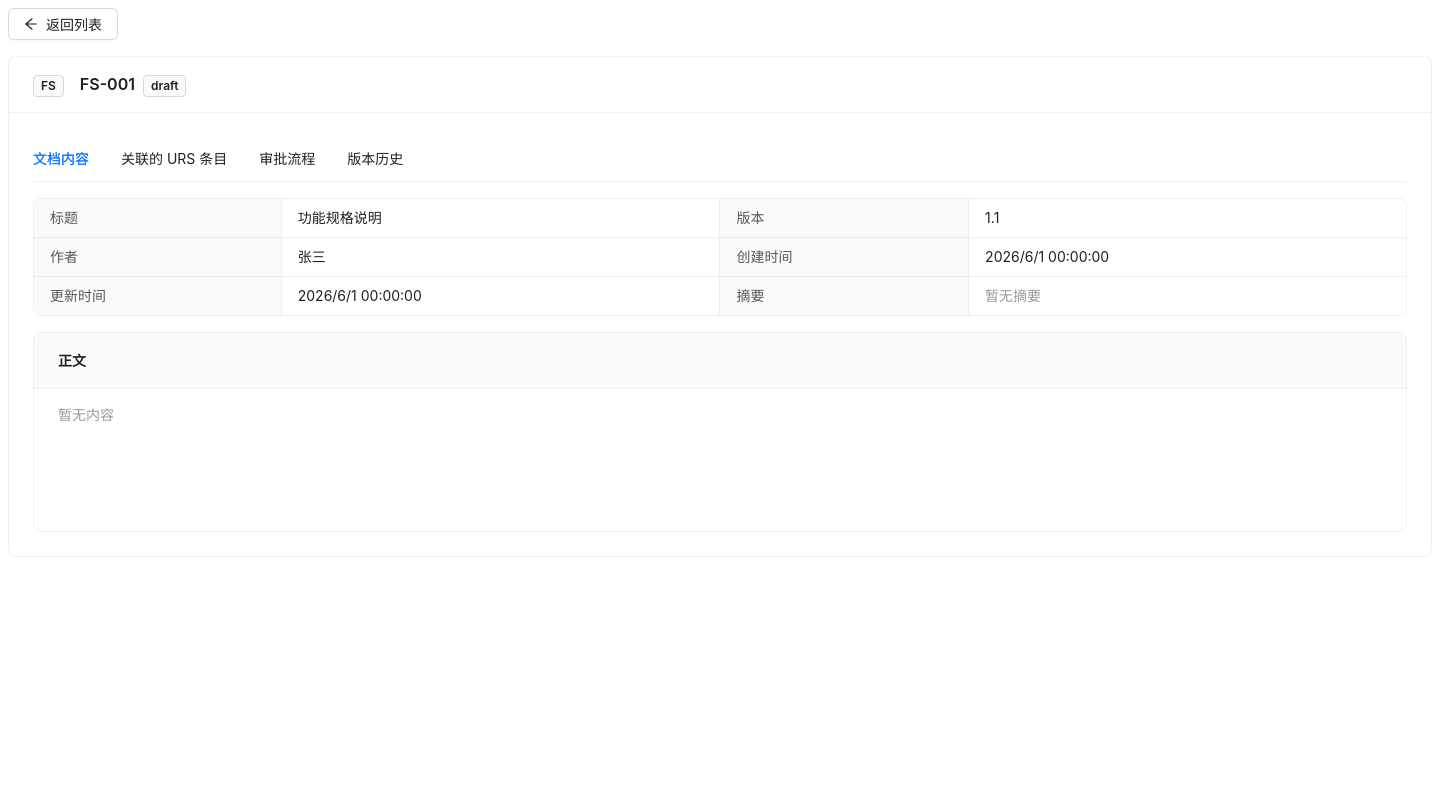
Test: DocumentDetailPage 审批流程 Tab 状态门控 › 已批准文档发起变更回到草稿后，审批流程不再显示上一轮的"已通过"
Click the tab "审批流程" at (287, 159), box [259,148,315,170]
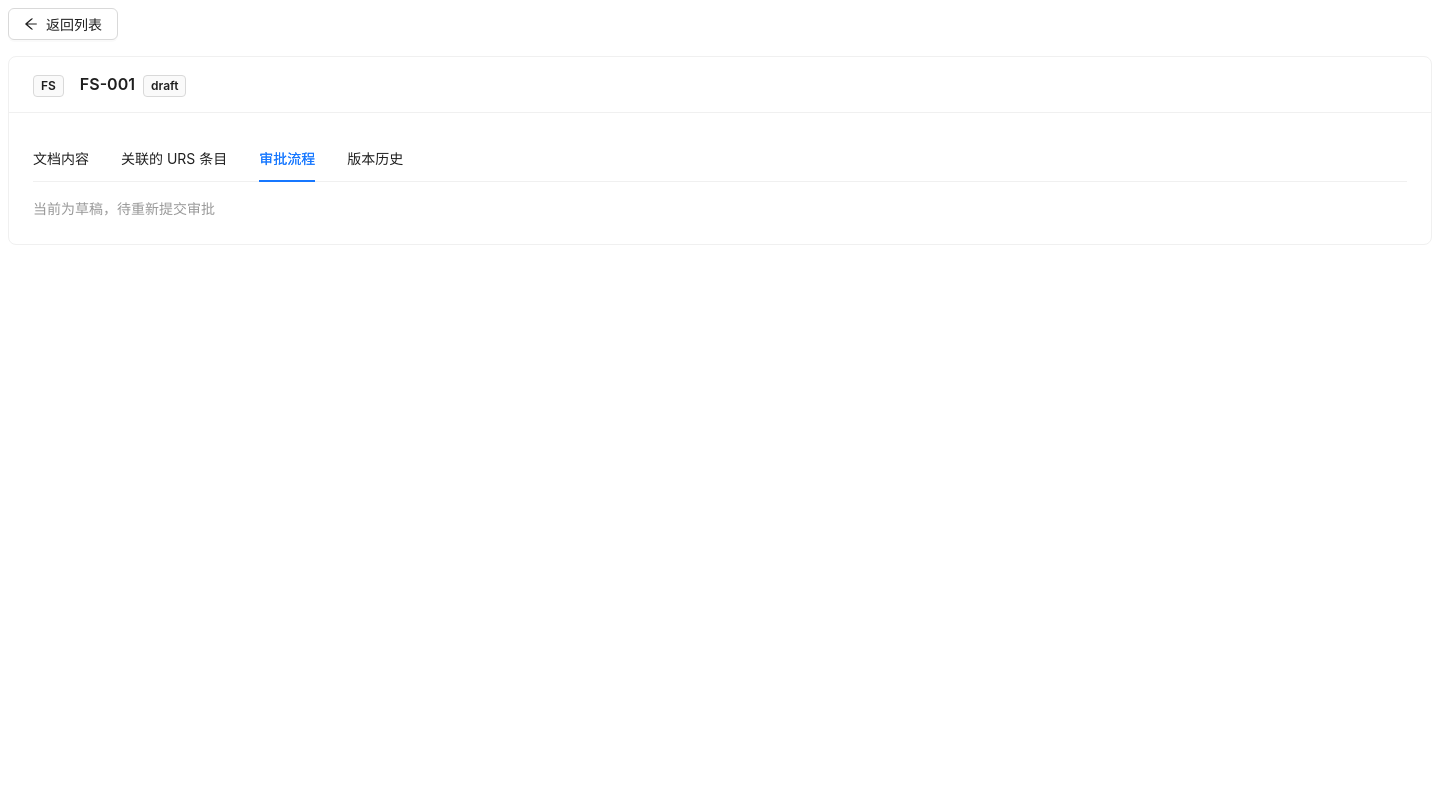
Result: the text "当前为草稿，待重新提交审批" is shown at [33,200,215,217]
